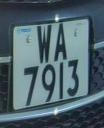1: (55, 59, 68, 103)
3: (64, 57, 82, 99)
7: (20, 63, 41, 109)
9: (40, 63, 59, 106)
A: (51, 21, 71, 64)
W: (33, 24, 54, 63)
